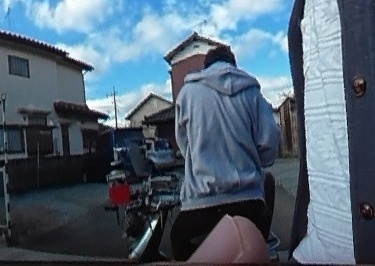person: (173, 45, 275, 251)
